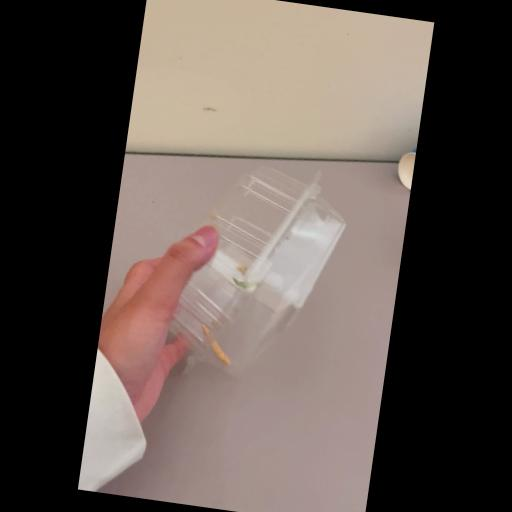small_plastic_container: (160, 156, 356, 388)
